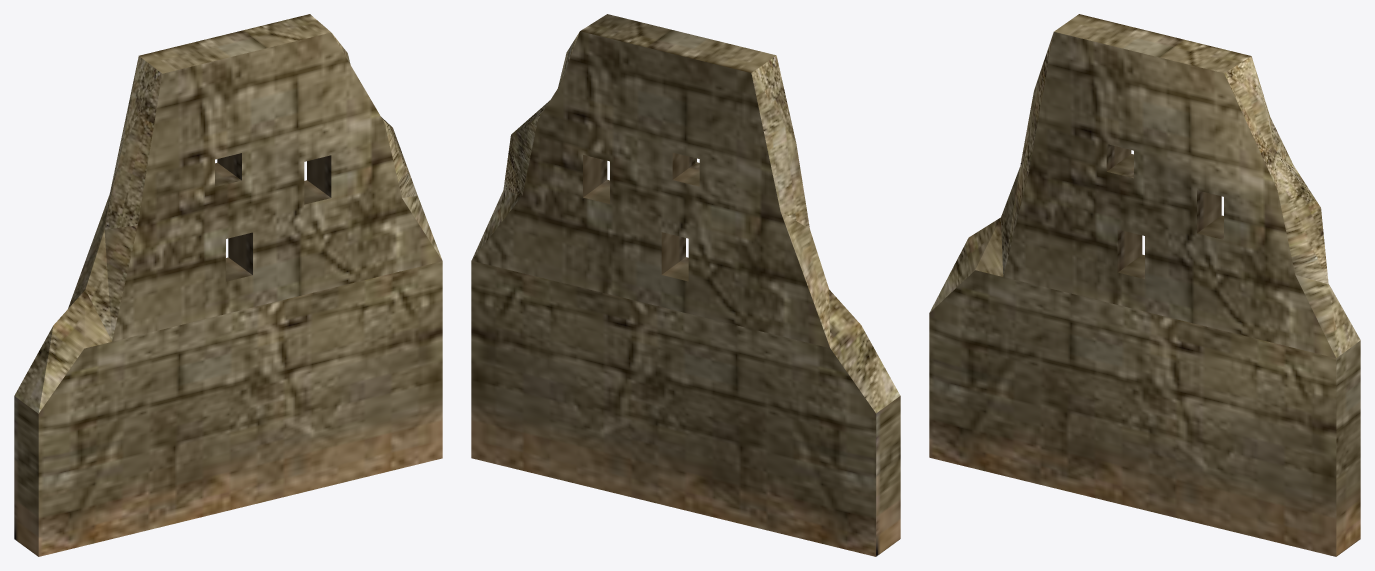
3 renders of one model, left to right at view 1: azimuth 30°, elevation 25°; view 2: azimuth 150°, elevation 25°; view 3: azimuth 330°, elevation 25°, orthographic.
Parts seen in each view (by area): view 1: a34; view 2: a34; view 3: a34.
Part boxes in pixels (left/top/right/bottom): a34: left=14, top=14, right=442, bottom=556; a34: left=471, top=14, right=900, bottom=556; a34: left=929, top=14, right=1360, bottom=556.
Bounding box in the file's own units: 1279 × 1370 × 134.
